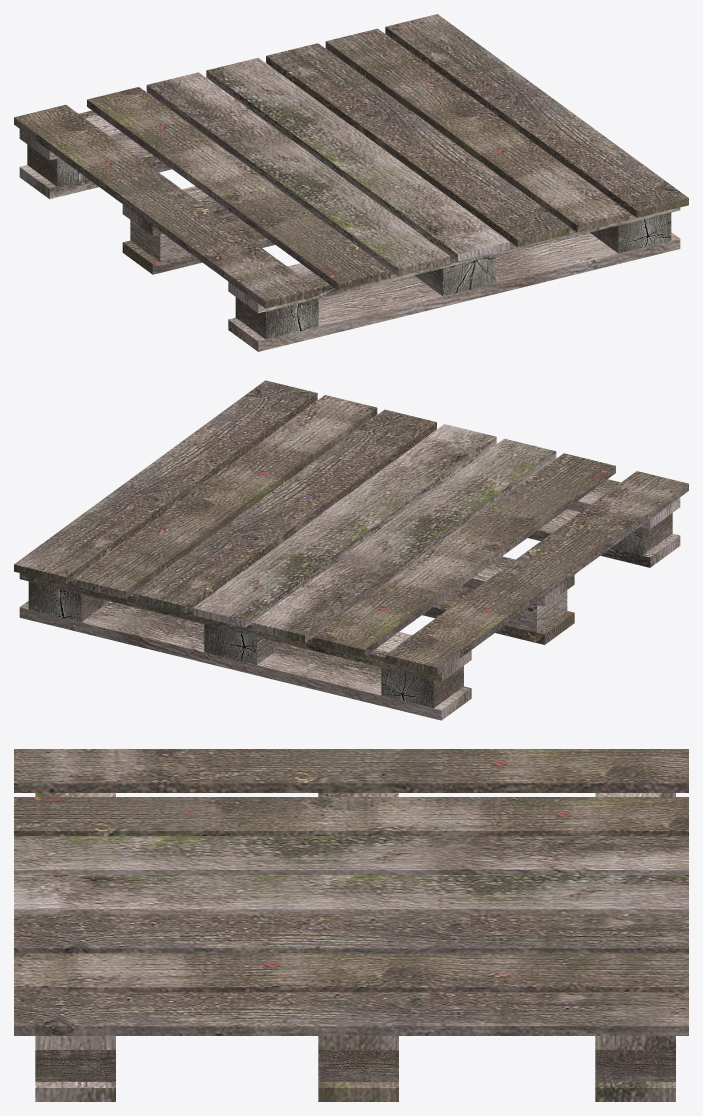
File: SM_wooden_pallet_a.fbx
3 renders of one model, top to bottom at view 1: azimuth 30°, elevation 25°; view 2: azimuth 150°, elevation 25°; view 3: azimuth 270°, elevation 25°, orthographic. The views are drawn at different scales.
Parts seen in each view (by area): view 1: SM_wooden_pallet_a; view 2: SM_wooden_pallet_a; view 3: SM_wooden_pallet_a.
Part boxes in pixels (x1=…): SM_wooden_pallet_a: x1=14, y1=14, x2=688, y2=351; SM_wooden_pallet_a: x1=14, y1=380, x2=688, y2=720; SM_wooden_pallet_a: x1=14, y1=749, x2=688, y2=1101.
Bounding box in the file's own units: 130 × 134 × 16.65.
Materials: 1 (1 with a texture image).
